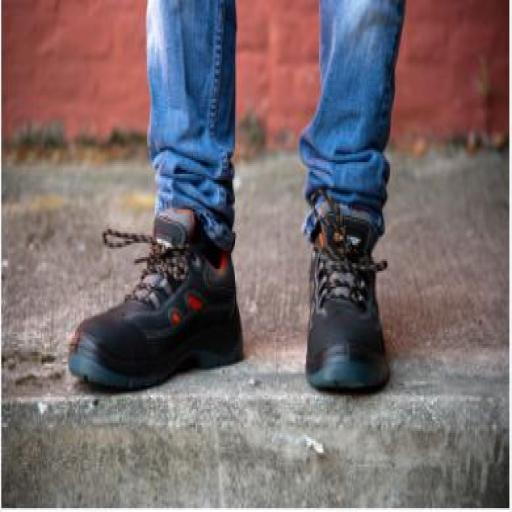safety_boots: (58, 218, 242, 398), (273, 212, 400, 404)
